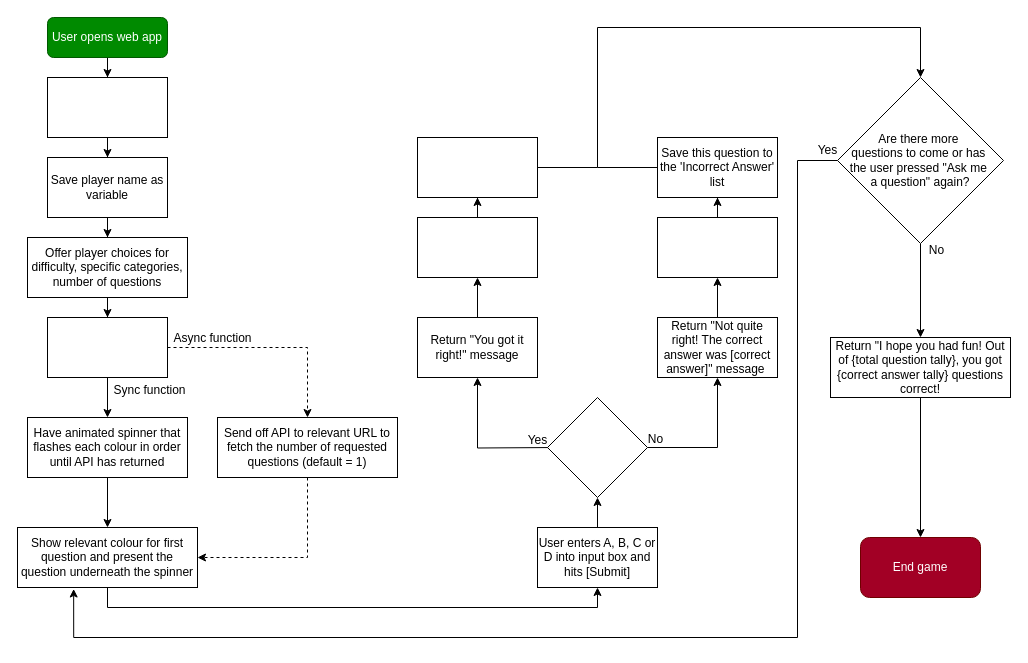
This 1028x663 diagram has some shape labels left out. The shapes that lost their labels are listed below. From the top down, each one's centre as x and y in pixels, then its label:
pixel 107 107: Greet player and ask their name
pixel 477 167: Save this question to the 'Correct Answer' list
pixel 477 247: Increase correct answer tally and total questions tally by one
pixel 717 247: Increase total questions tally by one
pixel 107 347: Wait for user to press "Ask me a question" button
pixel 597 447: Did the player get it correct?
